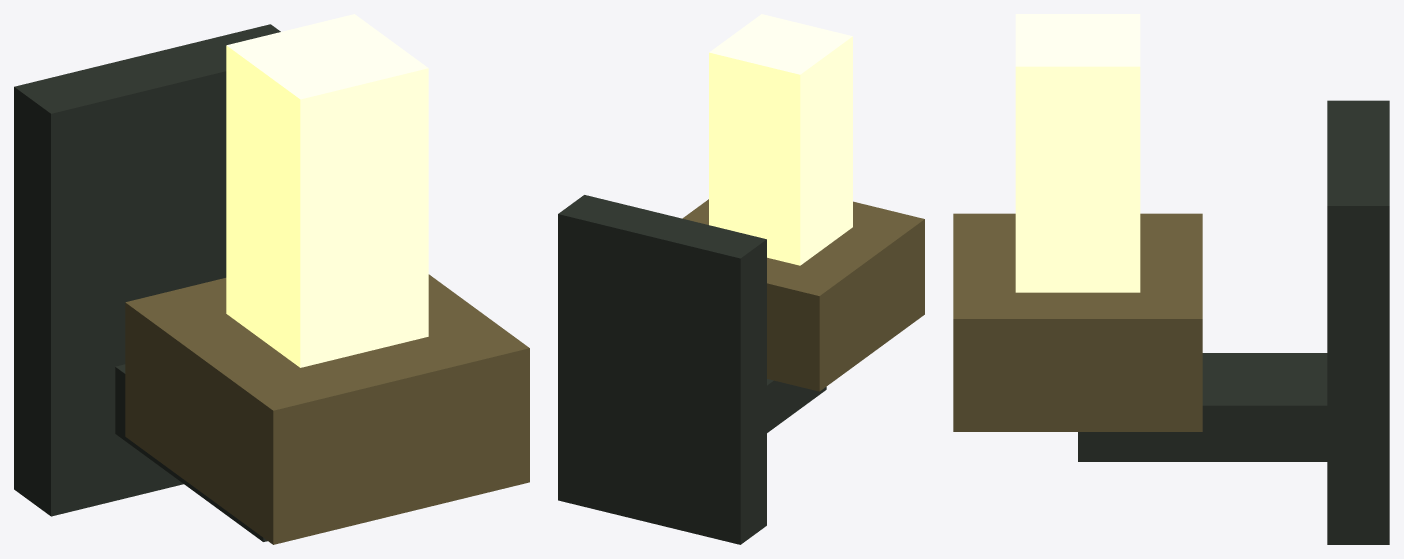
Rendered from LIGHT_SCONCE.glb.
3 views of the same model, side by side, from view 1: azimuth 30°, elevation 25°; view 2: azimuth 150°, elevation 25°; view 3: azimuth 270°, elevation 25° (orthographic). The views are drawn at different scales.
Parts seen in each view (by area): view 1: LIGHT_SCONCE; view 2: LIGHT_SCONCE; view 3: LIGHT_SCONCE.
Boxes of the visible parts, <box> form: LIGHT_SCONCE: <box>14,14,529,544</box>; LIGHT_SCONCE: <box>558,14,924,544</box>; LIGHT_SCONCE: <box>953,14,1389,544</box>.
Bounding box in the file's own units: 0.5 × 1 × 0.875.
